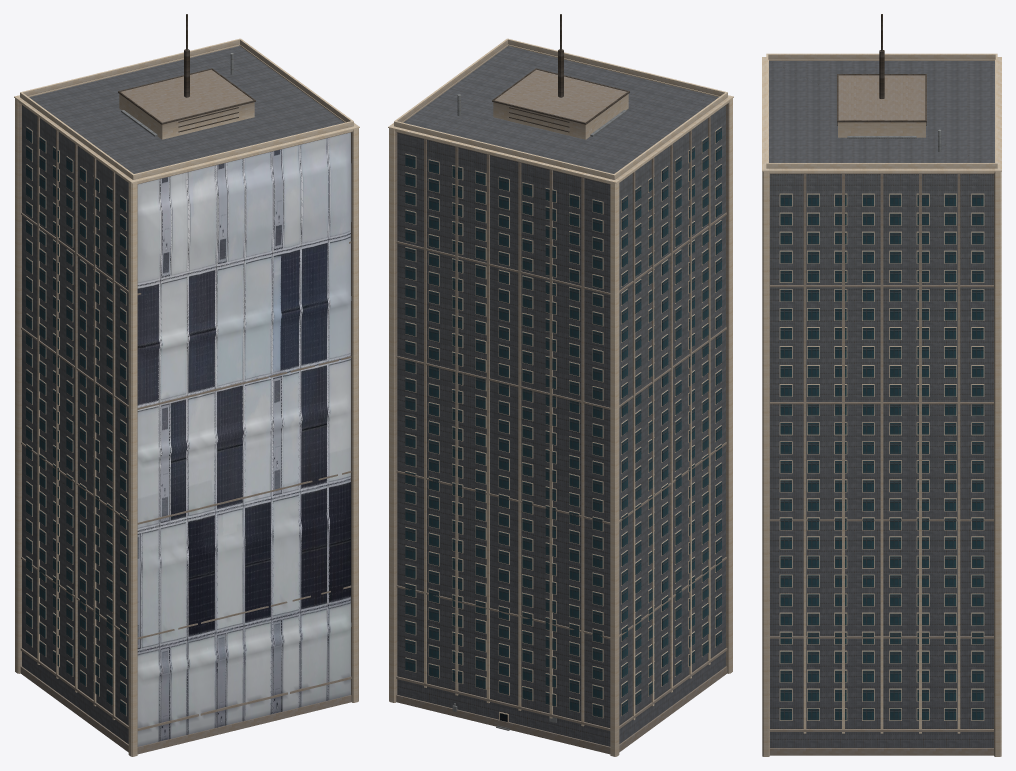
Rendered from halcyon-hq_lod0.gltf.
The picture shows the model from 3 angles, left to right: view 1: azimuth 30°, elevation 25°; view 2: azimuth 150°, elevation 25°; view 3: azimuth 270°, elevation 25°; orthographic projection. The views are drawn at different scales.
Visible parts, largest first — view 1: halcyon-hq_front, halcyon-hq_main, halcyon-hq__v4_stone_detail, halcyon-hq_fen_07-glass-curtain-blue_1, halcyon-hq_fen_04-limestone_0, halcyon-hq__v4_metal_detail; view 2: halcyon-hq_main, halcyon-hq__v4_stone_detail, halcyon-hq_fen_07-glass-curtain-blue_1, halcyon-hq_fen_04-limestone_0, halcyon-hq__v4_metal_detail; view 3: halcyon-hq_main, halcyon-hq__v4_stone_detail, halcyon-hq_fen_07-glass-curtain-blue_1, halcyon-hq_fen_04-limestone_0, halcyon-hq__v4_metal_detail.
Part boxes in pixels (x1,y1,x2,y2): halcyon-hq_front: (137,132,351,746); halcyon-hq_main: (22,46,344,743); halcyon-hq__v4_stone_detail: (14,38,359,756); halcyon-hq_fen_07-glass-curtain-blue_1: (26,127,126,715); halcyon-hq_fen_04-limestone_0: (26,126,126,716); halcyon-hq__v4_metal_detail: (118,14,255,132); halcyon-hq_main: (397,46,725,746); halcyon-hq__v4_stone_detail: (388,38,733,756); halcyon-hq_fen_07-glass-curtain-blue_1: (405,127,721,717); halcyon-hq_fen_04-limestone_0: (405,126,721,722); halcyon-hq__v4_metal_detail: (492,14,629,132); halcyon-hq_main: (769,61,994,747); halcyon-hq__v4_stone_detail: (762,53,1001,756); halcyon-hq_fen_07-glass-curtain-blue_1: (780,194,983,720); halcyon-hq_fen_04-limestone_0: (779,193,984,720); halcyon-hq__v4_metal_detail: (837,14,926,125).
Size of the model in its own units: 46.6 by 131 by 41.6.
